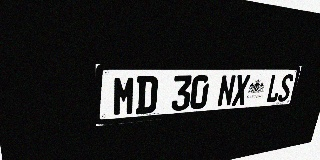0: (189, 75, 210, 110)
3: (171, 75, 192, 111)
D: (135, 76, 158, 114)
L: (265, 74, 283, 103)
M: (112, 76, 136, 116)
N: (217, 75, 236, 107)
S: (277, 74, 294, 102)
X: (231, 75, 251, 106)
